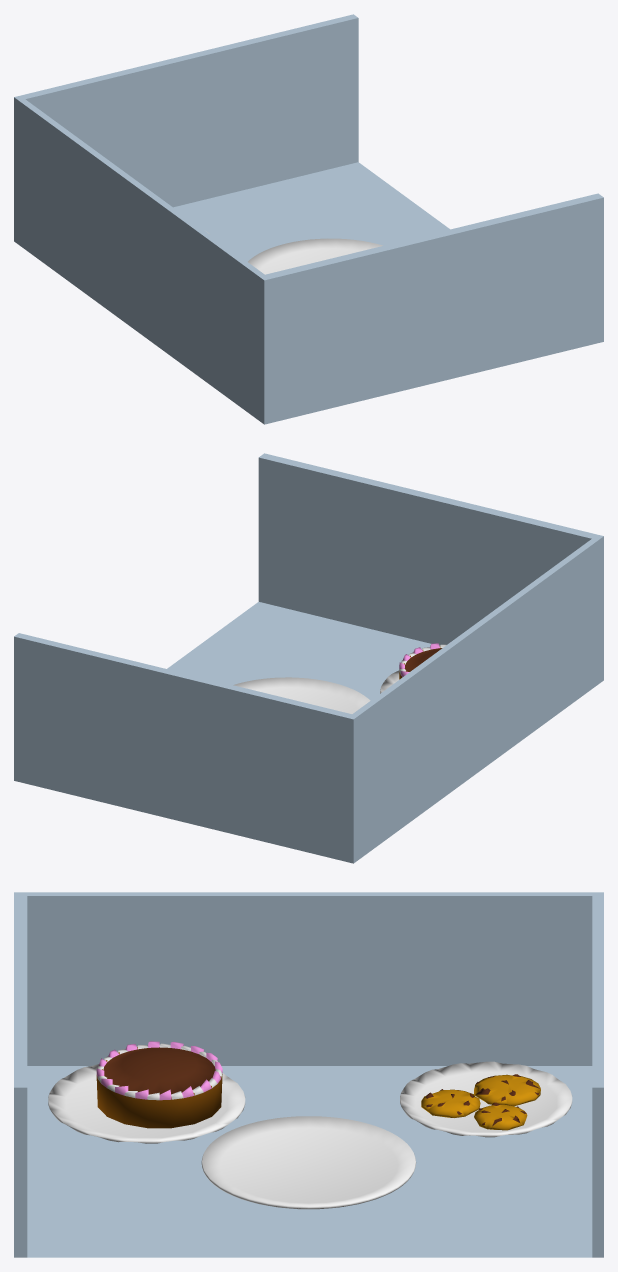
Rendered from fridge.glb.
3 renders of one model, top to bottom at view 1: azimuth 30°, elevation 25°; view 2: azimuth 150°, elevation 25°; view 3: azimuth 270°, elevation 25°, orthographic. The views are drawn at different scales.
Visible parts, largest first — view 1: Fridge, Plate; view 2: Fridge, Plate, Cake; view 3: Fridge, Plate, Cake, PlateDecor1, PlateDecor2, Cookie2, Cookie1, Cookie3.
Boxes of the visible parts, left/top/right/bottom form: Fridge: left=14, top=14, right=603, bottom=424; Plate: left=248, top=238, right=382, bottom=274; Fridge: left=14, top=453, right=603, bottom=863; Plate: left=233, top=677, right=370, bottom=713; Cake: left=399, top=643, right=446, bottom=679; Fridge: left=14, top=892, right=603, bottom=1257; Plate: left=201, top=1116, right=416, bottom=1209; Cake: left=96, top=1041, right=222, bottom=1128; PlateDecor1: left=400, top=1061, right=572, bottom=1137; PlateDecor2: left=48, top=1064, right=245, bottom=1143; Cookie2: left=474, top=1074, right=540, bottom=1106; Cookie1: left=421, top=1089, right=480, bottom=1117; Cookie3: left=474, top=1102, right=527, bottom=1130.
Bounding box in the file's own units: 25.97 × 10.54 × 33.16.
